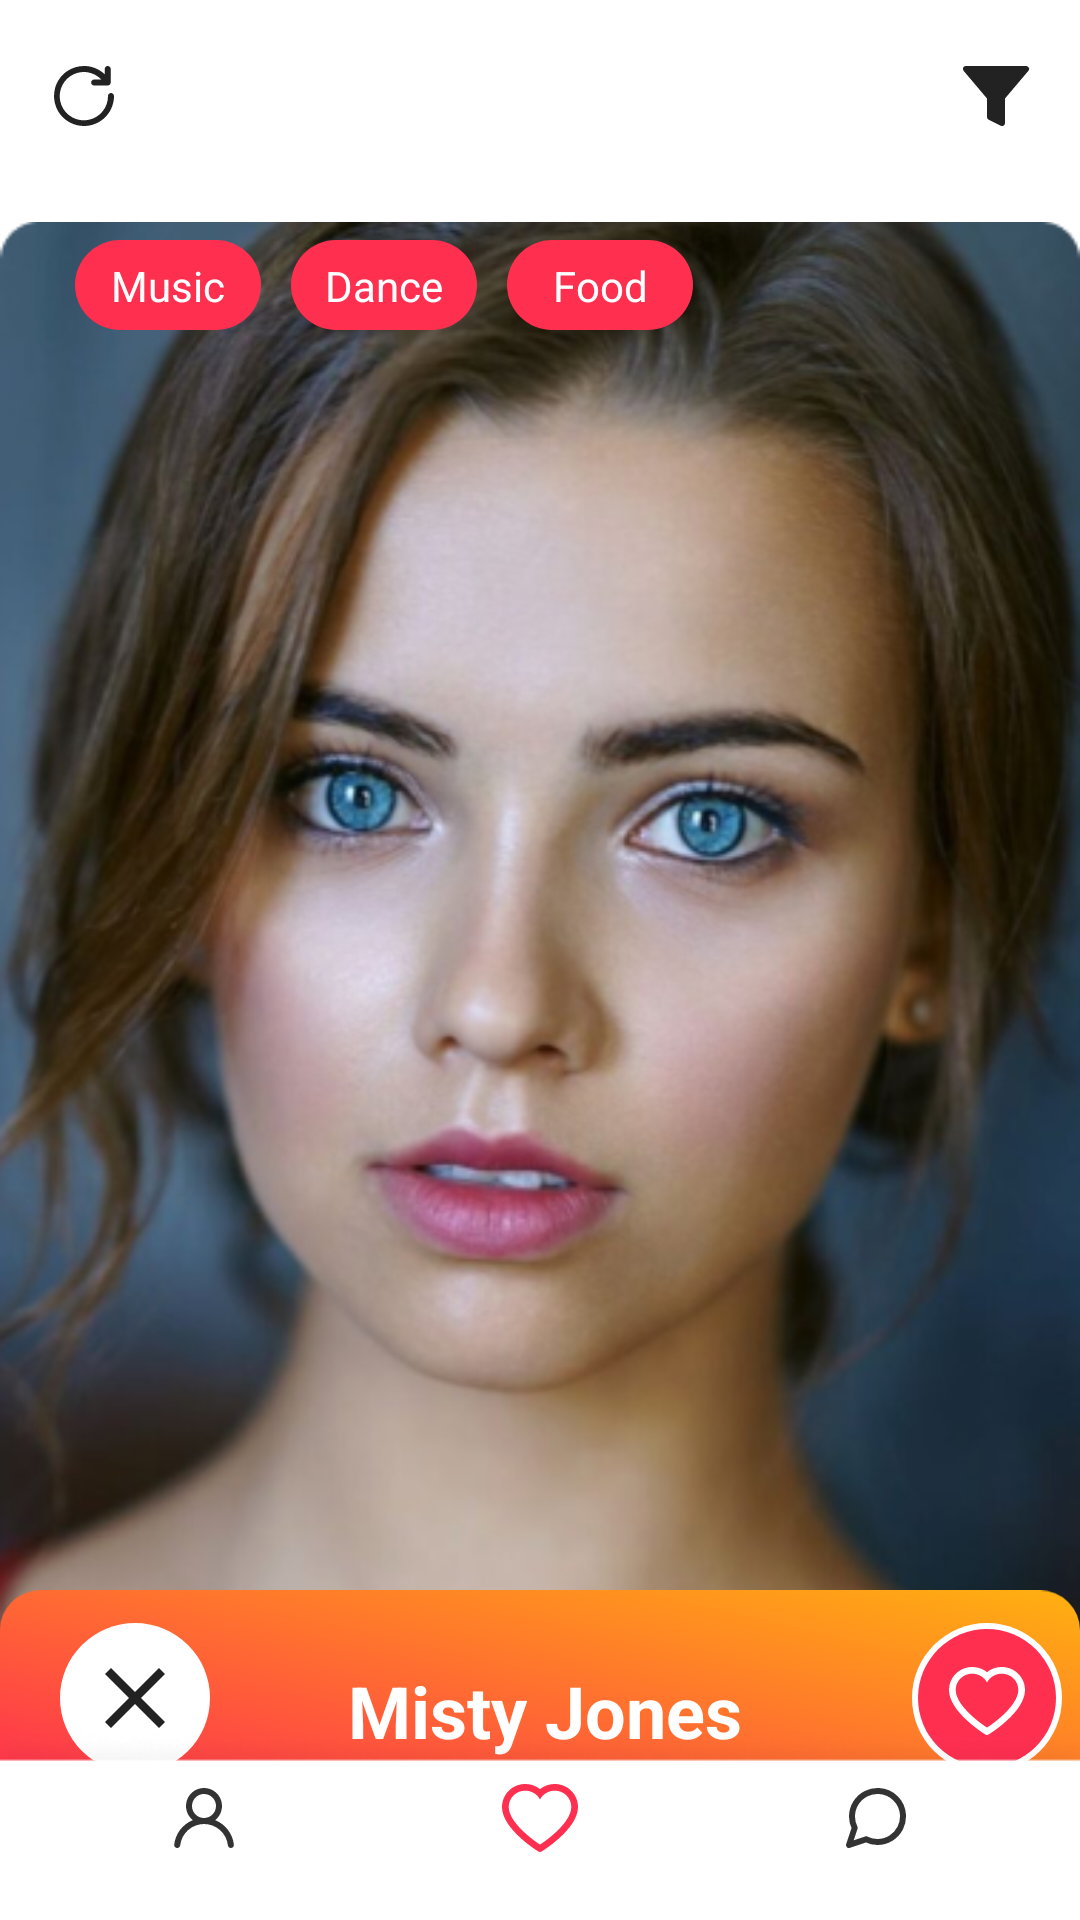

Where icons sit on this 1080*1920 app screen, as [left=x1, top=y1, right=x2, bottom=y2]:
filter: [left=963, top=66, right=1030, bottom=126]
redo: [left=54, top=66, right=114, bottom=126]
